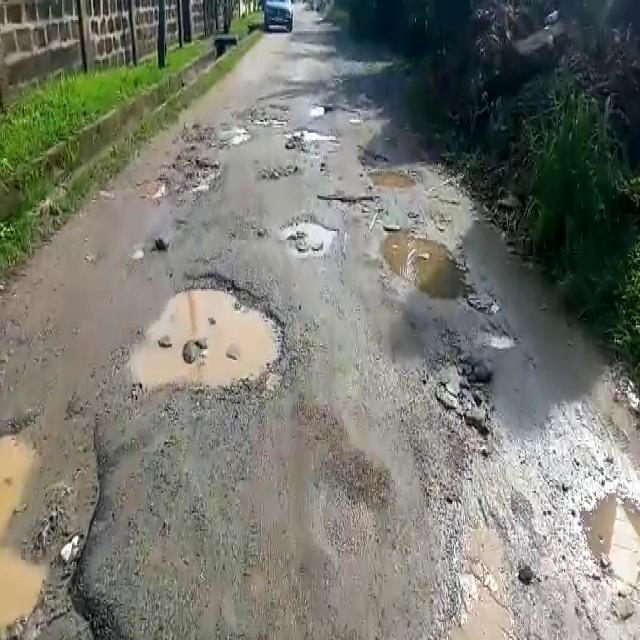Pothole: (0, 405, 104, 640), (127, 269, 291, 400), (576, 484, 640, 607), (424, 354, 493, 454), (372, 221, 473, 289), (137, 143, 221, 202), (279, 216, 335, 259), (282, 125, 336, 150), (319, 192, 384, 212), (365, 168, 419, 192), (478, 324, 519, 350)
